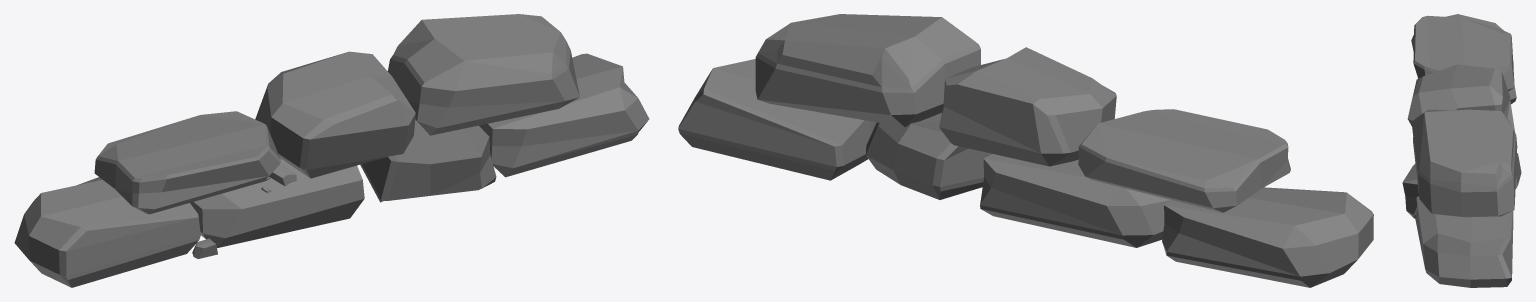
File: model_polytope_wall.fbx
3 renders of one model, left to right at view 1: azimuth 30°, elevation 25°; view 2: azimuth 150°, elevation 25°; view 3: azimuth 270°, elevation 25°, orthographic. The views are drawn at different scales.
Visible parts, largest first — view 1: model_polytope_wall; view 2: model_polytope_wall; view 3: model_polytope_wall.
Part boxes in pixels (box(x1,y1,x2,y2)): model_polytope_wall: box(14, 14, 649, 287); model_polytope_wall: box(678, 14, 1373, 287); model_polytope_wall: box(1402, 14, 1521, 287).
Size of the model in its own units: 352 by 73.47 by 74.37.
1 material, 1 textured.
